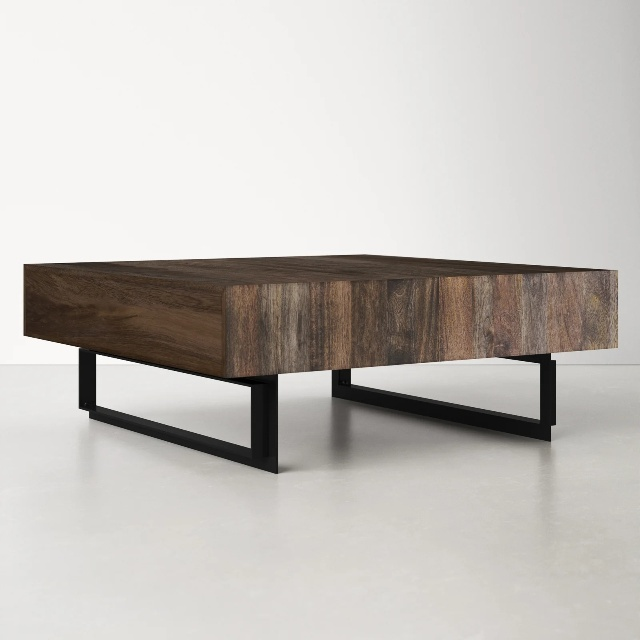obstacle: (24, 255, 617, 472)
